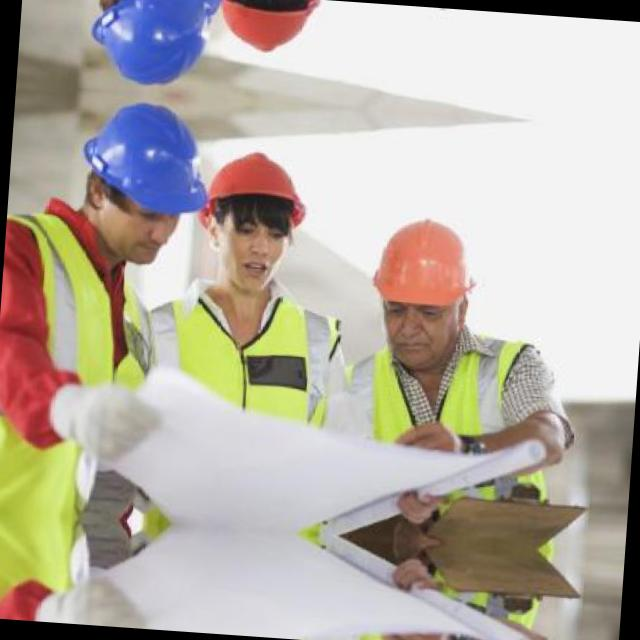helmet: (56, 94, 212, 272), (184, 130, 324, 300), (354, 197, 484, 371), (68, 0, 221, 92), (200, 0, 336, 74)
